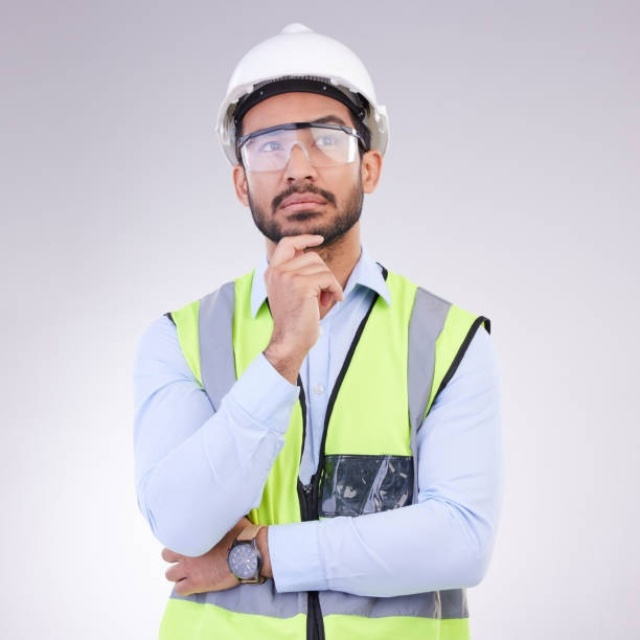Gafas: (235, 124, 366, 173)
Sin_guantes: (264, 231, 345, 339), (162, 519, 262, 597)
Sin_mascara: (273, 187, 332, 220)
